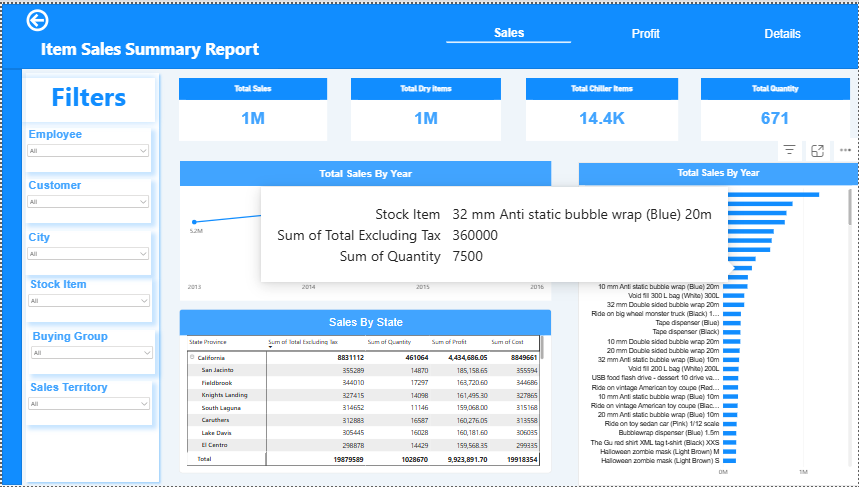

What the dashboard file says about the page in this screenshot:
{"tool":"powerbi","page":{"name":"Sales","canvas":[1920,1080],"ordinal":0},"visuals":[{"type":"pivotTable","title":"Sales By State","fields":{"Rows":["DimCity.State Province","DimCity.City"],"Values":["Sum(FactSale.Total Excluding Tax)","Sum(FactSale.Quantity)","Sum(FactSale.Profit)","Sum(FactSale.Cost)"]},"box":[395.7,683,835,368.3],"z":0},{"type":"card","title":"Total Sales","fields":{"Values":["Sum(FactSale.Quantity)"]},"box":[396.6,165.8,331.6,141.2],"z":1000},{"type":"shape","box":[0,0,1920.2,145.6],"z":2000},{"type":"shape","box":[44.8,145.6,315.9,934.4],"z":3000},{"type":"slicer","fields":{"Values":["DimEmpolyee.Employee"]},"box":[51.1,278.7,283,97.9],"z":4000},{"type":"textbox","box":[44.8,165.8,298,98.6],"z":5000},{"type":"shape","box":[0,145.6,44.8,932.1],"z":6000},{"type":"textbox","box":[44.7,74.5,572.3,70.2],"z":7000},{"type":"card","title":"Total Quantity","fields":{"Values":["CountNonNull(DimStockItem.Quantity Per Outer)"]},"box":[1566.2,165.8,333.9,141.2],"z":8000},{"type":"card","title":"Total Chiller Items","fields":{"Values":["Sum(FactSale.Total Chiller Items)"]},"box":[1174.1,165.8,340.6,141.2],"z":9000},{"type":"card","title":"Total Dry items","fields":{"Values":["Sum(FactSale.Total Dry Items)"]},"box":[782,165.8,336.1,141.2],"z":10000},{"type":"barChart","title":" Total Sales By Year","fields":{"Category":["DimStockItem.Stock Item"],"Y":["Sum(FactSale.Total Excluding Tax)"]},"box":[1290.6,354,629.6,726],"z":11000},{"type":"lineChart","title":" Total Sales By Year","fields":{"Category":["DimData.Date.Variation.Date Hierarchy.Year","DimData.Date.Variation.Date Hierarchy.Quarter","DimData.Date.Variation.Date Hierarchy.Month","DimData.Date.Variation.Date Hierarchy.Day"],"Y":["Sum(FactSale.Total Excluding Tax)"]},"box":[397.9,351.1,831.9,312.8],"z":12000},{"type":"slicer","fields":{"Values":["DimCustomer.Customer"]},"box":[51.1,391.5,283,97.9],"z":13000},{"type":"slicer","fields":{"Values":["DimCity.City"]},"box":[51.1,508.5,283,97.9],"z":14000},{"type":"slicer","fields":{"Values":["DimCustomer.Buying Group"]},"box":[59.6,729.8,283,97.9],"z":15000},{"type":"actionButton","box":[0,0,159.6,72.3],"z":17000},{"type":"pageNavigator","box":[985.1,36.2,914.9,61.7],"z":18000},{"type":"slicer","fields":{"Values":["DimStockItem.Stock Item"]},"box":[53.8,613.9,283,97.9],"z":19000},{"type":"slicer","fields":{"Values":["DimCity.Sales Territory"]},"box":[53.8,844.7,283,97.9],"z":19001}]}

Visuals, with their boxes in screenshot pixels (x1, y1, x2, y2), scaled from the page's 1920x1080 canvas onto the 859x487 screenshot:
"Sales By State" pivotTable: locate(177, 308, 551, 474)
"Total Sales" card: locate(177, 75, 326, 138)
shape: locate(0, 0, 858, 66)
shape: locate(20, 66, 161, 486)
slicer - DimEmpolyee.Employee: locate(23, 126, 149, 170)
textbox: locate(20, 75, 153, 119)
shape: locate(0, 66, 20, 486)
textbox: locate(20, 34, 276, 65)
"Total Quantity" card: locate(701, 75, 850, 138)
"Total Chiller Items" card: locate(525, 75, 678, 138)
"Total Dry items" card: locate(350, 75, 500, 138)
" Total Sales By Year" barChart: locate(577, 160, 858, 486)
" Total Sales By Year" lineChart: locate(178, 158, 550, 299)
slicer - DimCustomer.Customer: locate(23, 177, 149, 221)
slicer - DimCity.City: locate(23, 229, 149, 273)
slicer - DimCustomer.Buying Group: locate(27, 329, 153, 373)
actionButton: locate(0, 0, 71, 33)
pageNavigator: locate(441, 16, 850, 44)
slicer - DimStockItem.Stock Item: locate(24, 277, 151, 321)
slicer - DimCity.Sales Territory: locate(24, 381, 151, 425)
